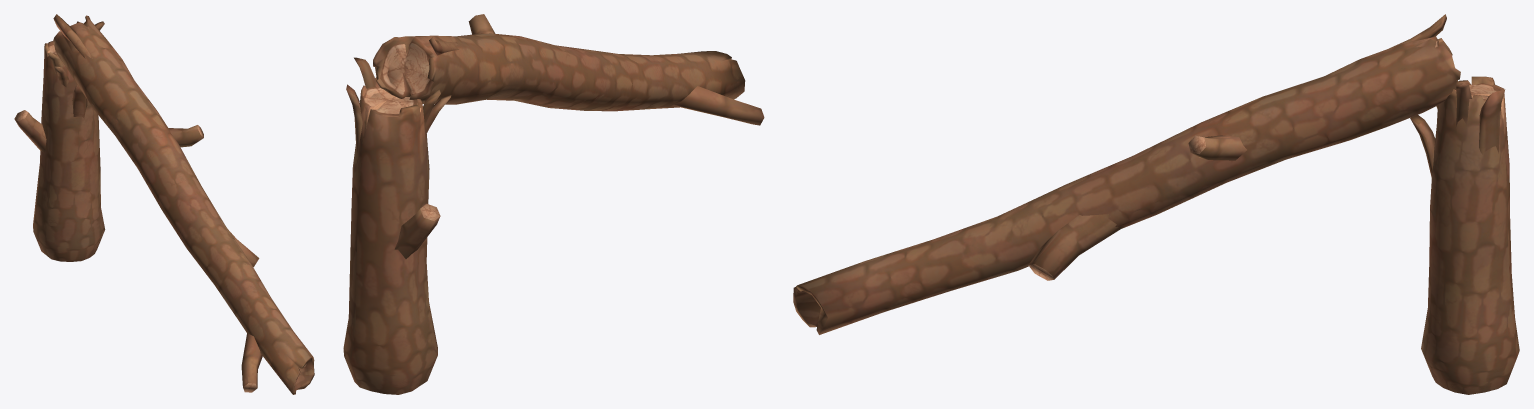
The model's file is P_FirFallen2.obj.
3 views of the same model, side by side, from view 1: azimuth 30°, elevation 25°; view 2: azimuth 150°, elevation 25°; view 3: azimuth 270°, elevation 25° (orthographic). The views are drawn at different scales.
Bounding box in the file's own units: 1.95 × 5.26 × 9.93.
